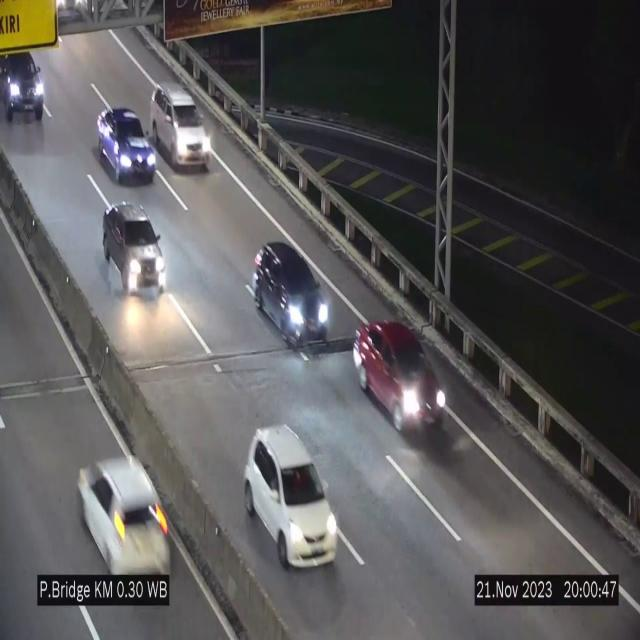Car: (245, 426, 339, 568), (354, 319, 451, 445), (252, 242, 334, 348), (102, 196, 168, 304), (150, 84, 210, 169), (97, 107, 155, 184)
